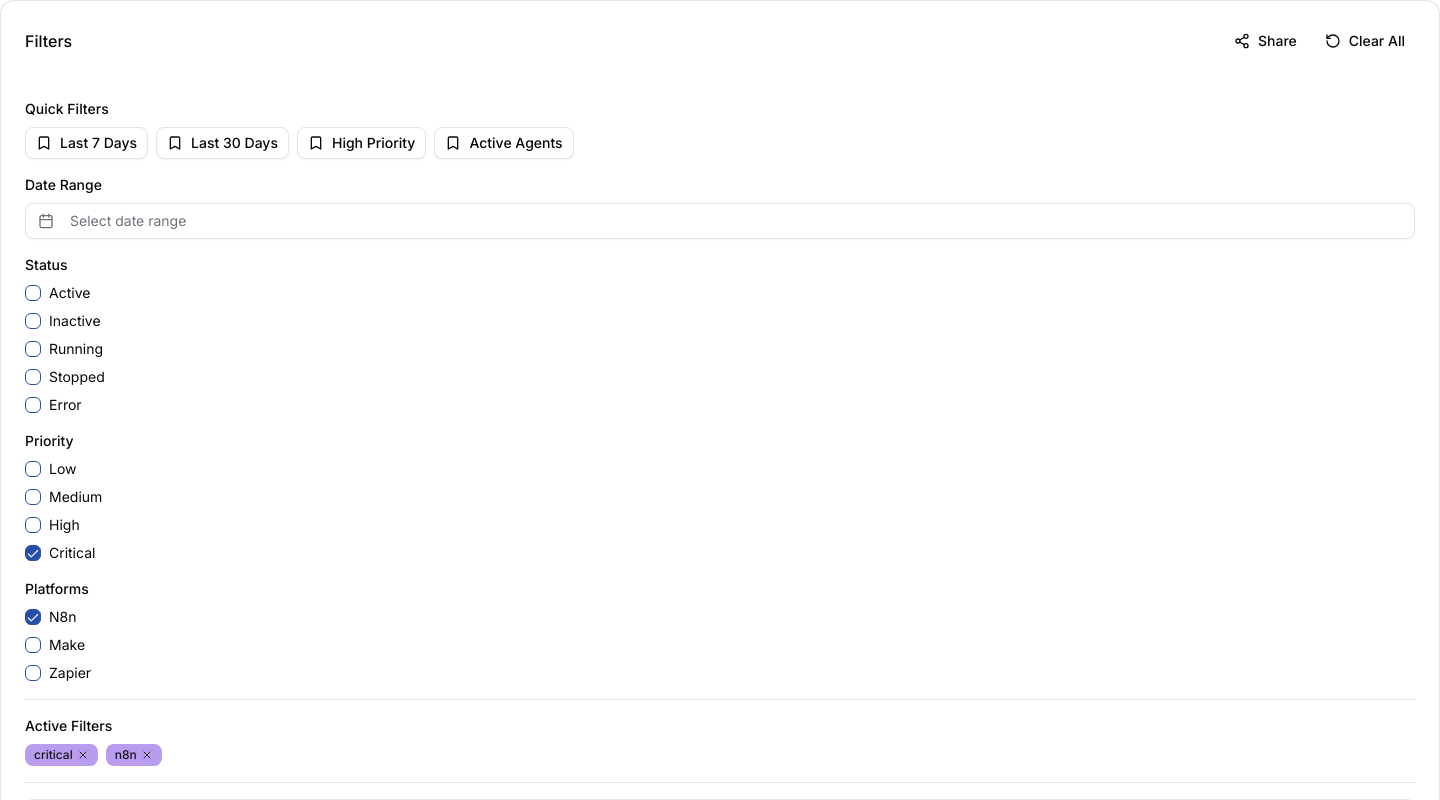
Scenario: DashboardFilters › clears all filters when Clear All is clicked
Note: Add multiple filters
Click the 1st checkbox named "active" at x=33, y=293, box x1=25 y1=285 x2=41 y2=301
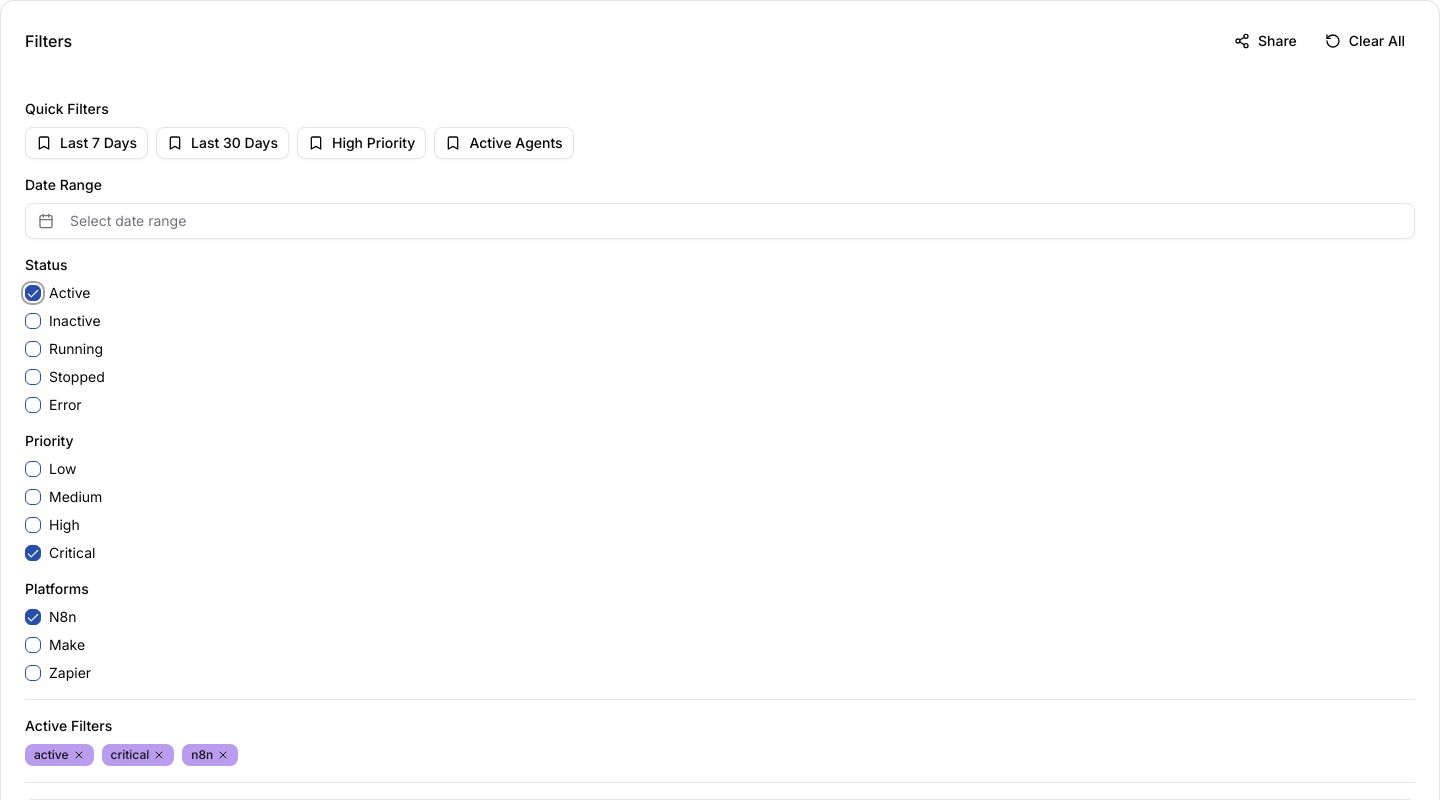
Click the 8th checkbox named "high" at x=33, y=525, box x1=25 y1=517 x2=41 y2=533
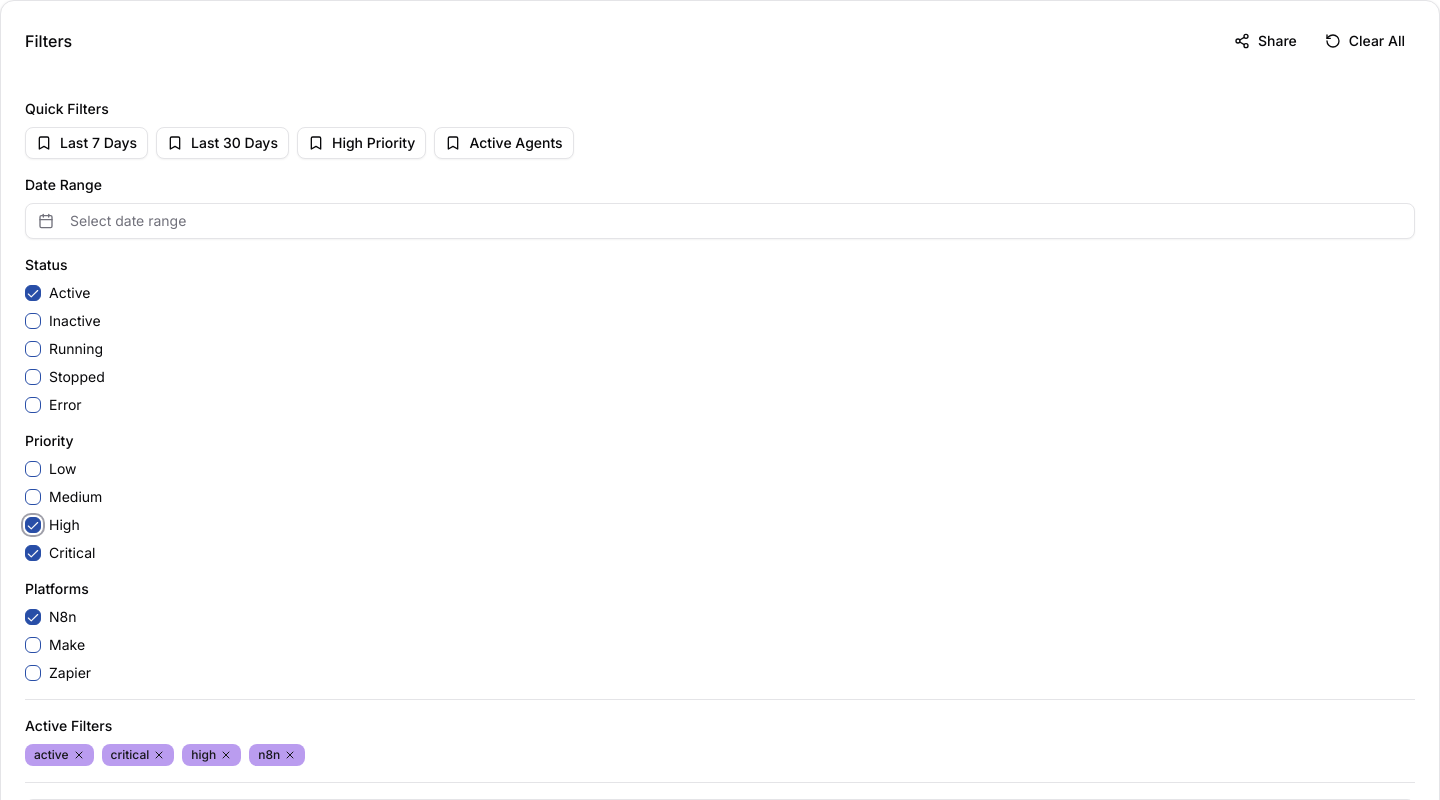
Expected: the text "Active Filters" is shown, x1=25 y1=717 x2=112 y2=734
Note: Click Clear All
Click the button "Clear All" at x=1365, y=41, box x1=1315 y1=25 x2=1415 y2=57
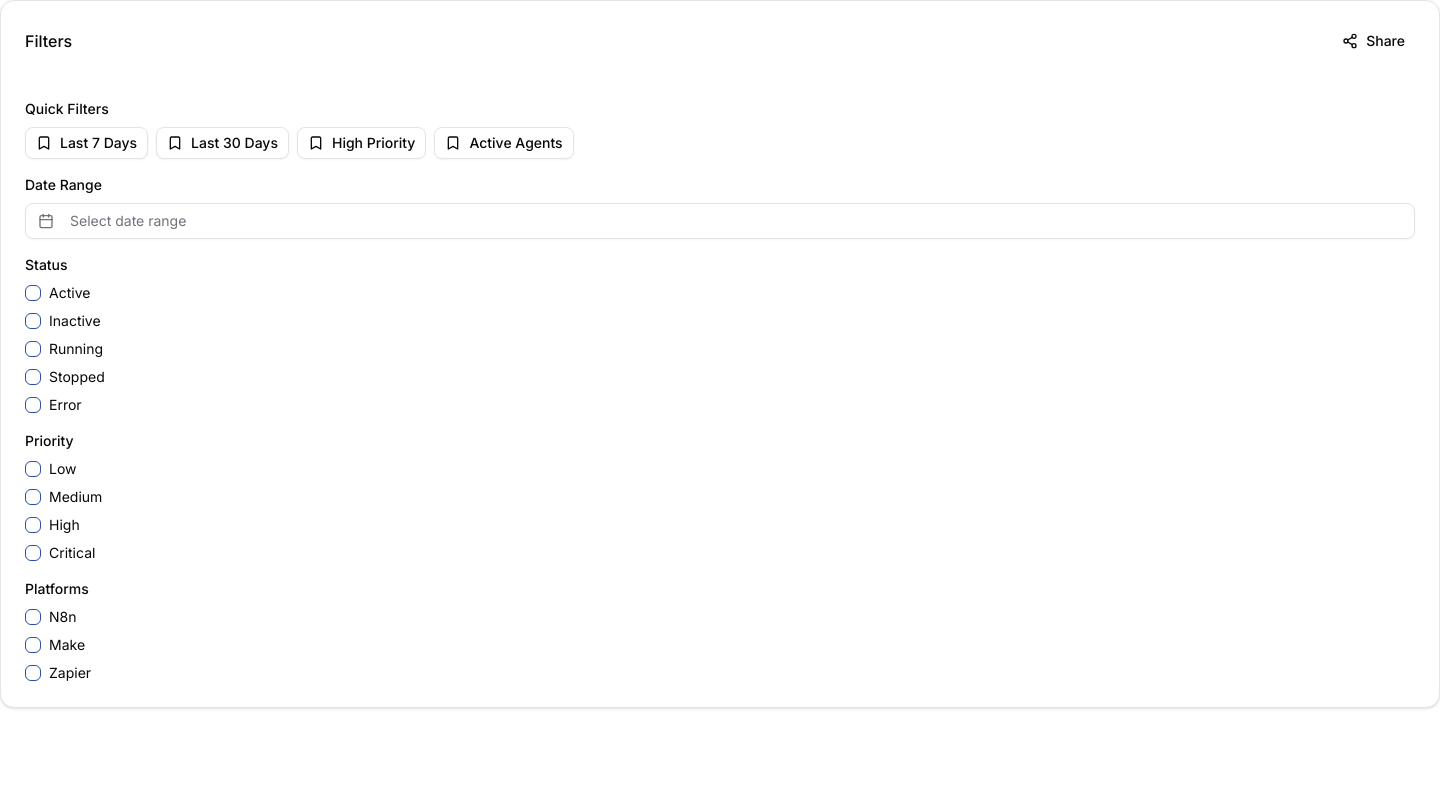
Expected: the 1st checkbox named "active" is not checked, x1=25 y1=285 x2=41 y2=301
Expected: the 8th checkbox named "high" is not checked, x1=25 y1=517 x2=41 y2=533
Expected: the text "Active Filters" is gone
